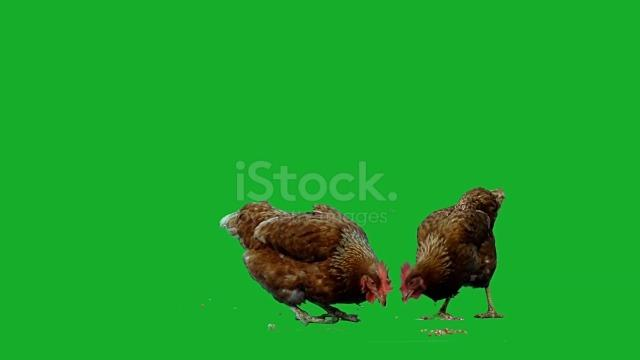Normal: (213, 198, 397, 327), (402, 182, 512, 331)
